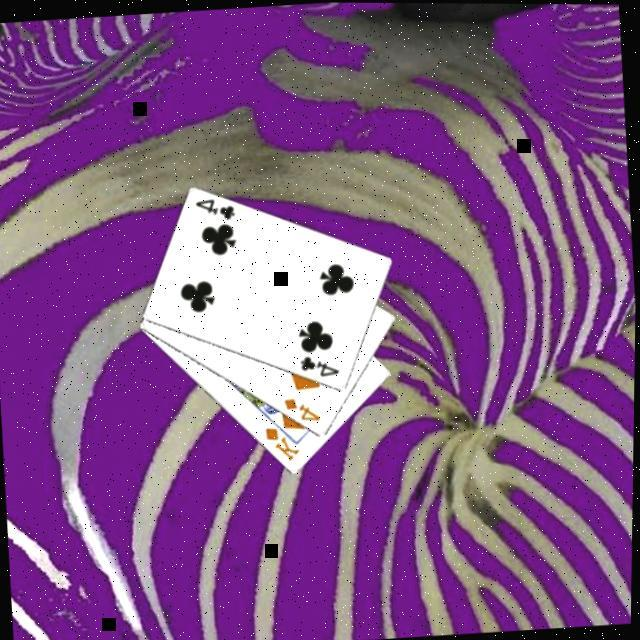4C: (189, 195, 237, 226), (295, 351, 342, 382)
4D: (280, 394, 322, 426)
KD: (260, 422, 302, 466)
